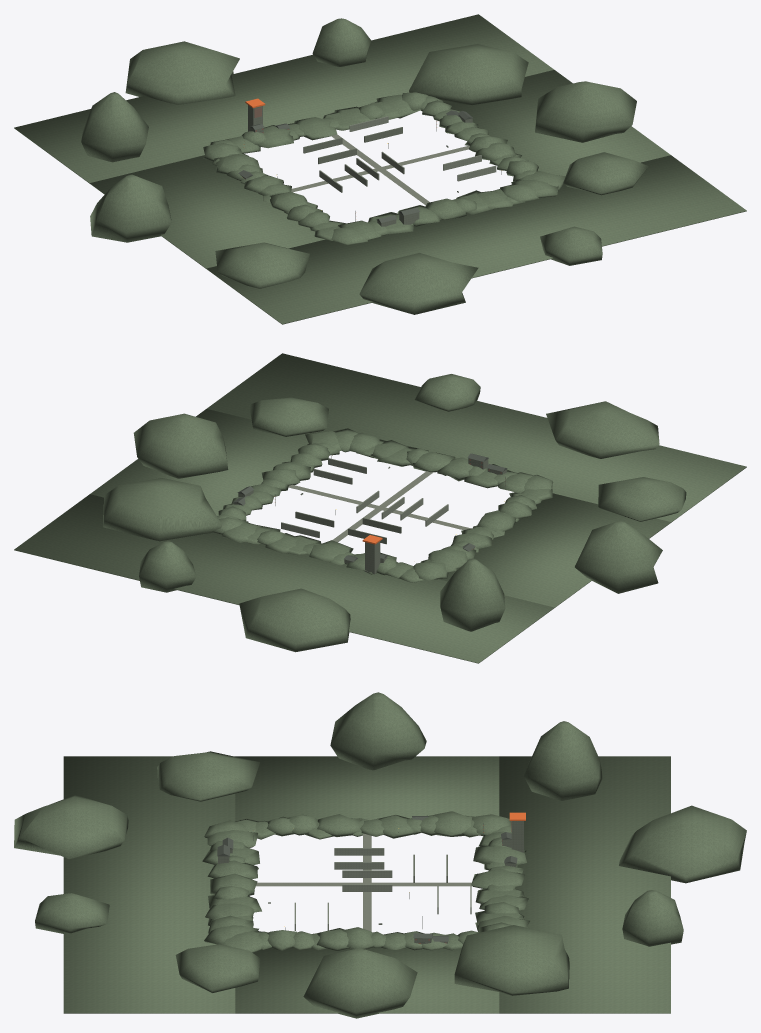
Rendered from renshujo-lod2.glb.
3 views of the same model, one above another, from view 1: azimuth 30°, elevation 25°; view 2: azimuth 150°, elevation 25°; view 3: azimuth 270°, elevation 25° (orthographic). The views are drawn at different scales.
Visible parts, largest first — view 1: HB_renshujo_LOD2_terrain, HB_renshujo_LOD2_wall, HB_renshujo_LOD2_wall_alt, HB_renshujo_LOD2_road, HB_renshujo_LOD2_trim; view 2: HB_renshujo_LOD2_terrain, HB_renshujo_LOD2_wall_alt, HB_renshujo_LOD2_wall, HB_renshujo_LOD2_road, HB_renshujo_LOD2_trim; view 3: HB_renshujo_LOD2_terrain, HB_renshujo_LOD2_wall, HB_renshujo_LOD2_road, HB_renshujo_LOD2_wall_alt, HB_renshujo_LOD2_trim.
Part boxes in pixels (x1=…): HB_renshujo_LOD2_terrain: x1=14, y1=14, x2=746, y2=324; HB_renshujo_LOD2_wall: x1=319, y1=116, x2=496, y2=192; HB_renshujo_LOD2_wall_alt: x1=240, y1=105, x2=472, y2=226; HB_renshujo_LOD2_road: x1=291, y1=134, x2=469, y2=205; HB_renshujo_LOD2_trim: x1=238, y1=110, x2=501, y2=222; HB_renshujo_LOD2_terrain: x1=14, y1=353, x2=746, y2=663; HB_renshujo_LOD2_wall_alt: x1=233, y1=458, x2=506, y2=574; HB_renshujo_LOD2_wall: x1=281, y1=458, x2=448, y2=537; HB_renshujo_LOD2_road: x1=288, y1=471, x2=471, y2=542; HB_renshujo_LOD2_trim: x1=232, y1=453, x2=507, y2=561; HB_renshujo_LOD2_terrain: x1=14, y1=692, x2=746, y2=1018; HB_renshujo_LOD2_wall: x1=268, y1=848, x2=471, y2=930; HB_renshujo_LOD2_road: x1=256, y1=834, x2=472, y2=931; HB_renshujo_LOD2_wall_alt: x1=218, y1=821, x2=523, y2=944; HB_renshujo_LOD2_trim: x1=217, y1=815, x2=517, y2=942.
Size of the model in its own units: 530 by 53.97 by 555.
Materials: 8 (6 with a texture image).
